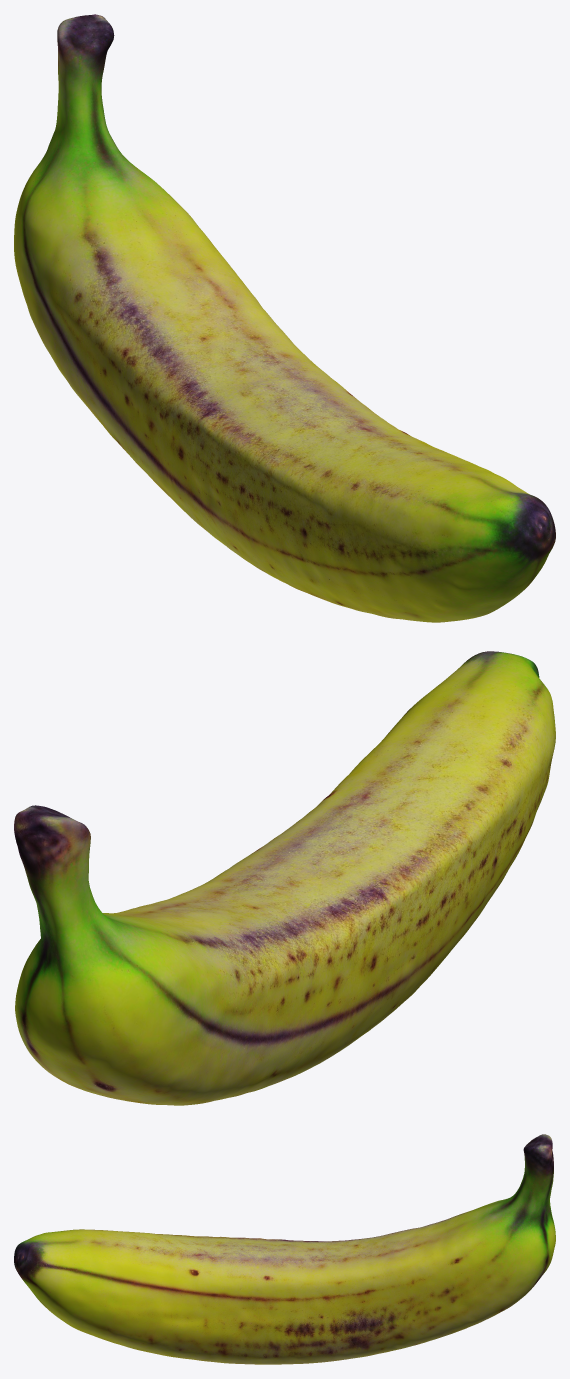
File: banana_fruit_1.glb
3 renders of one model, top to bottom at view 1: azimuth 30°, elevation 25°; view 2: azimuth 150°, elevation 25°; view 3: azimuth 270°, elevation 25°, orthographic. The views are drawn at different scales.
Parts seen in each view (by area): view 1: high_poly; view 2: high_poly; view 3: high_poly.
Part boxes in pixels (x1,y1,x2,y2): high_poly: (14,14,555,622); high_poly: (14,651,555,1105); high_poly: (14,1134,555,1364).
Bounding box in the file's own units: 0.2203 × 0.4559 × 1.
1 material, 1 textured.
